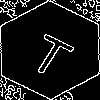T: (25, 25, 81, 80)
